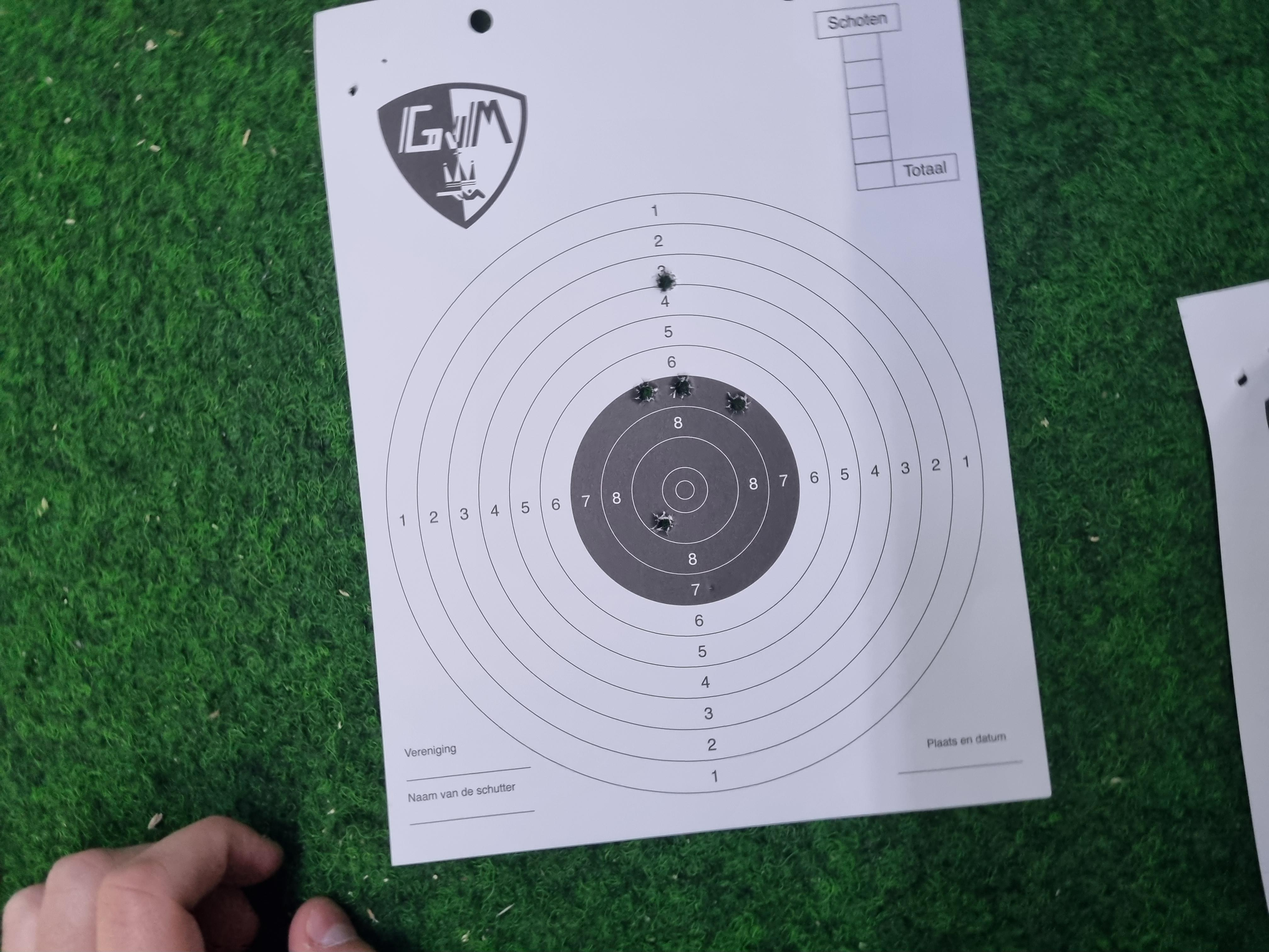hole: (713, 543, 747, 564), (730, 474, 765, 494), (736, 502, 769, 521), (554, 488, 587, 506), (879, 491, 909, 508)
